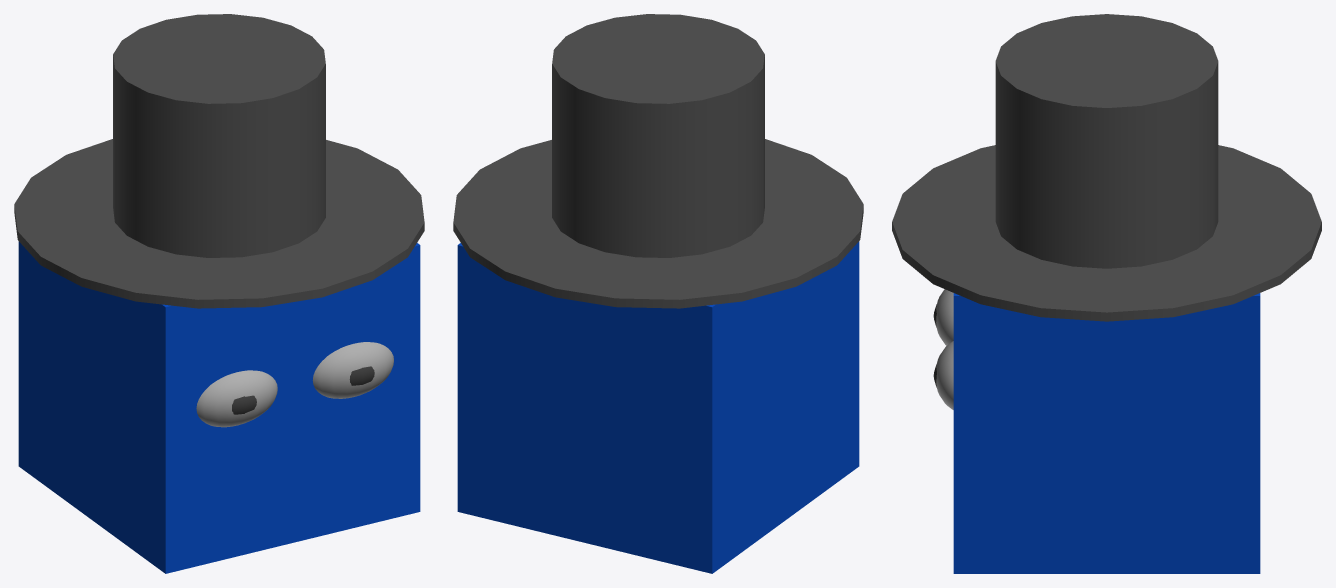
Rendered from Jimbo(Simple).fbx.
3 views of the same model, side by side, from view 1: azimuth 30°, elevation 25°; view 2: azimuth 150°, elevation 25°; view 3: azimuth 270°, elevation 25° (orthographic). The views are drawn at different scales.
Visible parts, largest first — view 1: pCylinder3; view 2: pCylinder3; view 3: pCylinder3.
Boxes of the visible parts, <box> form: pCylinder3: <box>14,14,424,573</box>; pCylinder3: <box>453,14,863,573</box>; pCylinder3: <box>892,14,1321,573</box>.
Size of the model in its own units: 14.02 by 16.13 by 14.02.
